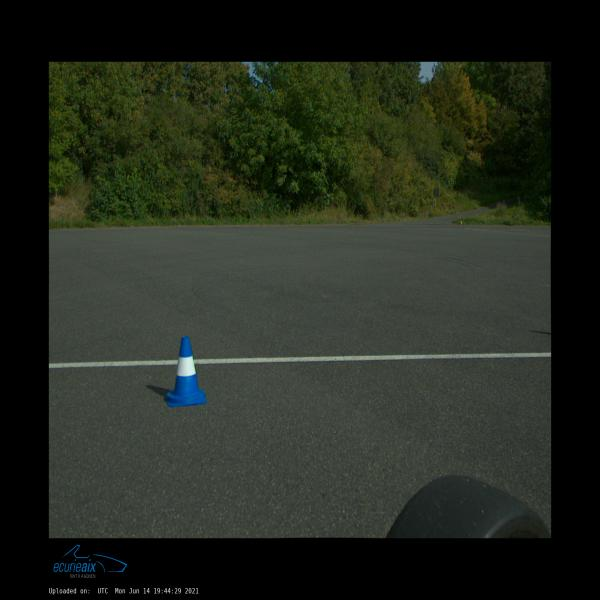blue_cone: (166, 337, 206, 407)
